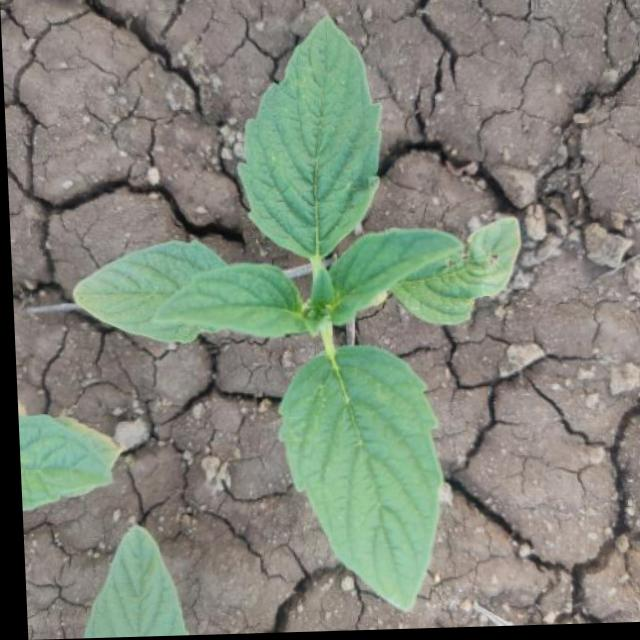crop: (57, 13, 485, 633)
